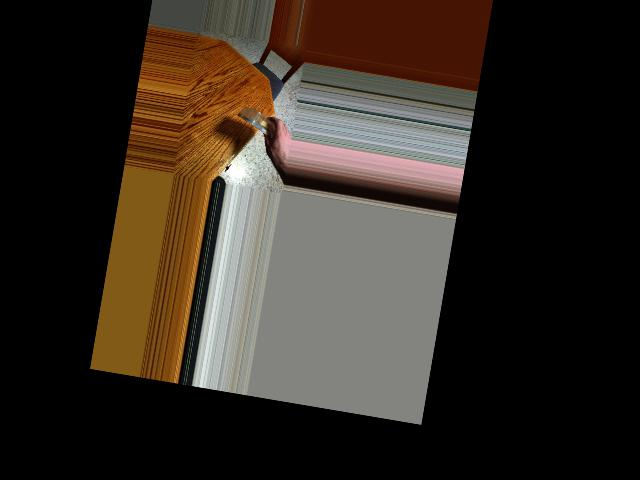cheese: (233, 105, 283, 137)
